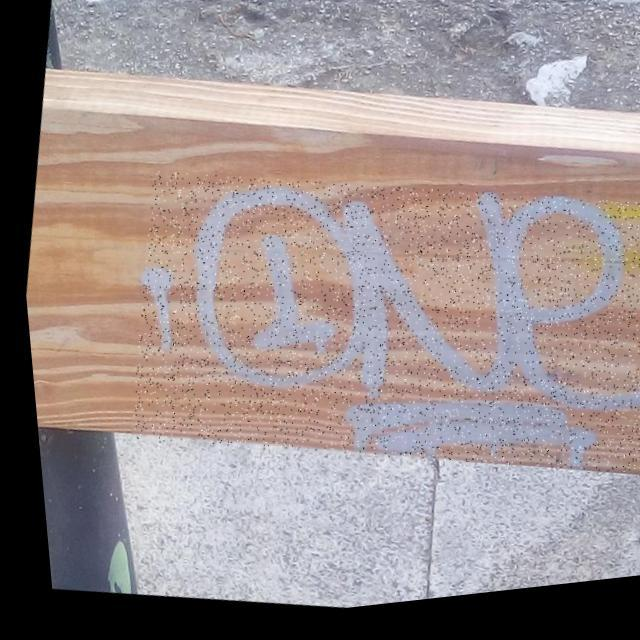-: (102, 130, 640, 533)
